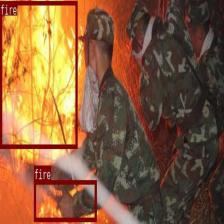fire: (0, 0, 77, 148), (34, 180, 96, 221)
